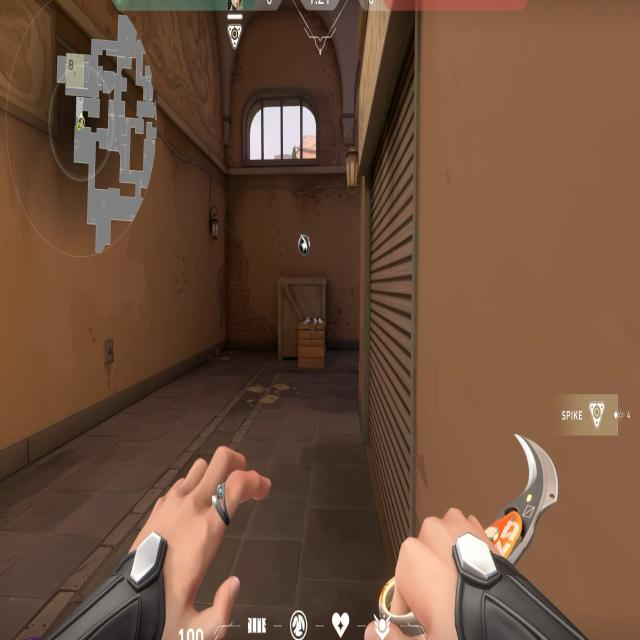B_Main_Wallbang: (274, 213, 338, 397)
Throwables: (238, 78, 330, 185)
